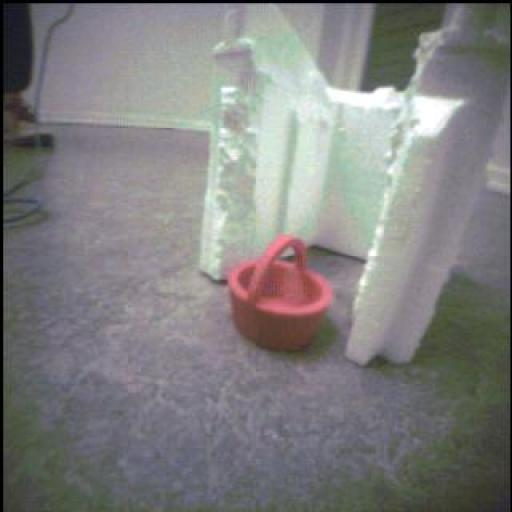Bucket: (230, 237, 334, 352)
